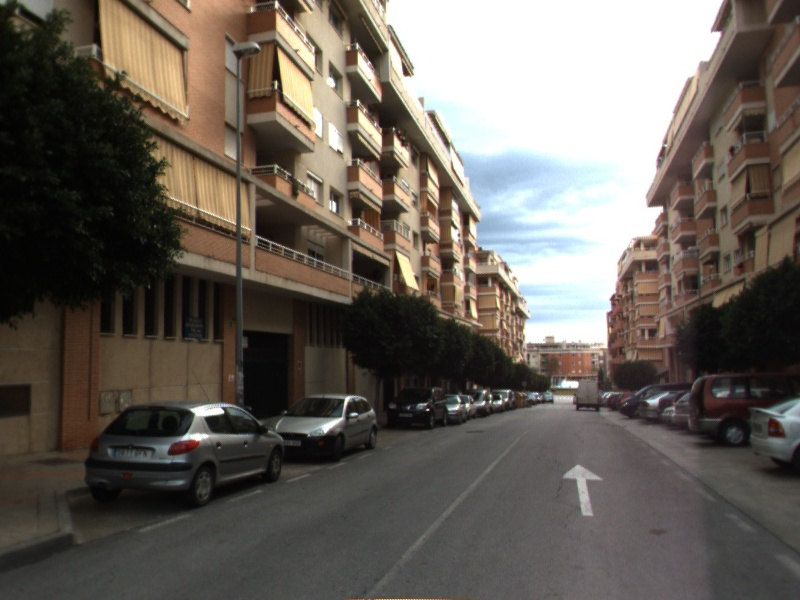STRAIGHT: (559, 462, 606, 518)
